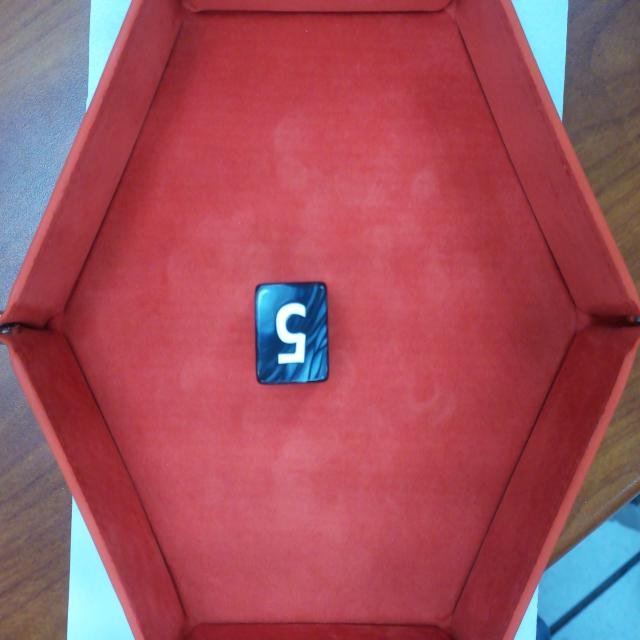dice: (253, 281, 330, 387)
